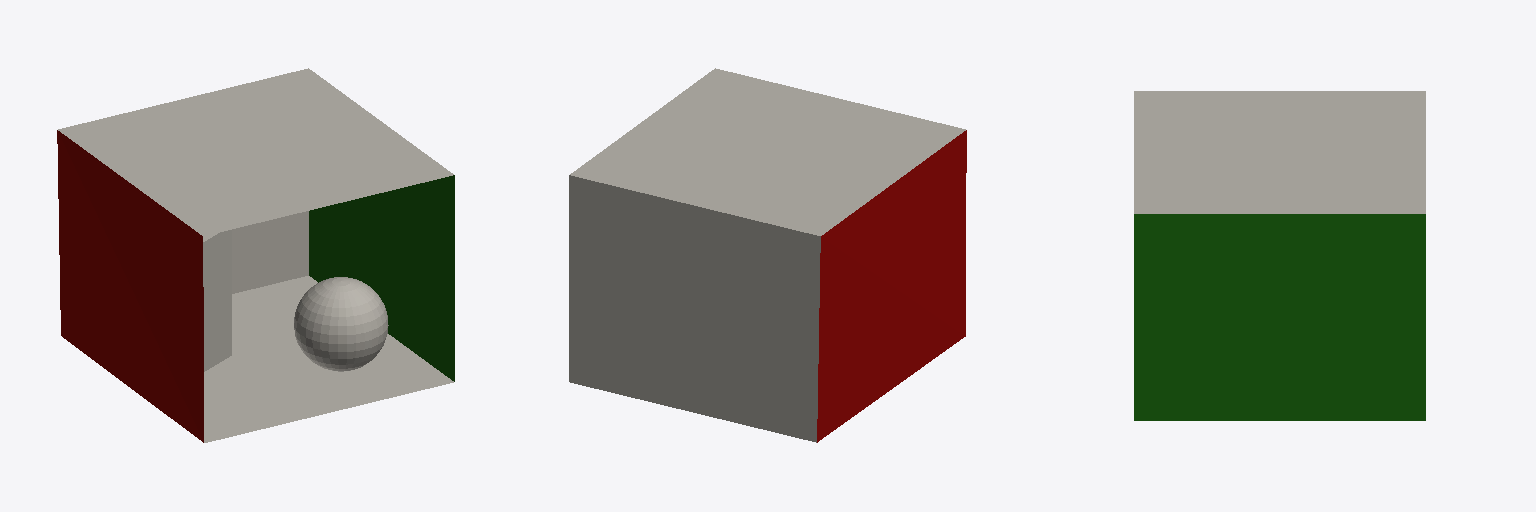
Rendered from cbox_low.obj.
3 views of the same model, side by side, from view 1: azimuth 30°, elevation 25°; view 2: azimuth 150°, elevation 25°; view 3: azimuth 270°, elevation 25° (orthographic).
Visible parts, largest first — view 1: ceiling, leftWall, rightWall, floor, rightSphere, backWall, leftBox; view 2: backWall, ceiling, leftWall; view 3: rightWall, ceiling.
Boxes of the visible parts, x1,y1,x2,y2 form: ceiling: [58, 68, 453, 235]; leftWall: [57, 130, 203, 442]; rightWall: [309, 175, 454, 381]; floor: [204, 276, 453, 442]; rightSphere: [294, 277, 388, 371]; backWall: [232, 211, 308, 293]; leftBox: [203, 230, 231, 371]; backWall: [569, 175, 820, 442]; ceiling: [570, 68, 965, 235]; leftWall: [817, 130, 966, 442]; rightWall: [1134, 214, 1425, 420]; ceiling: [1134, 91, 1425, 213].
Size of the model in its own units: 2.02 by 1.59 by 2.03.